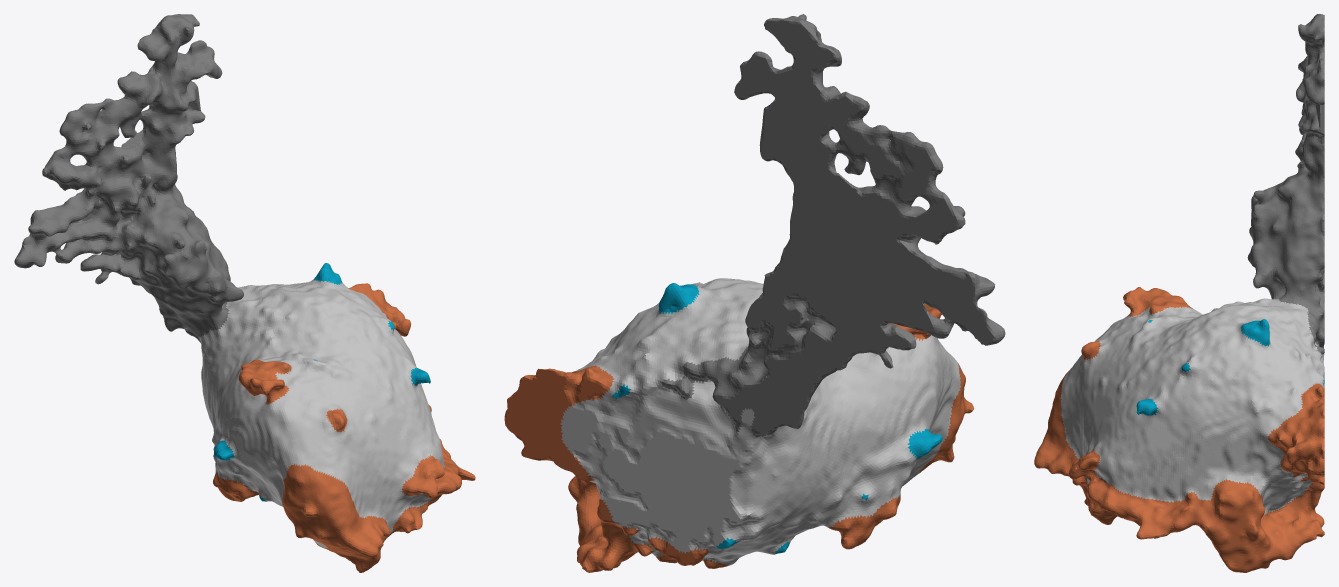
The picture shows the model from 3 angles, left to right: view 1: azimuth 30°, elevation 25°; view 2: azimuth 150°, elevation 25°; view 3: azimuth 270°, elevation 25°; orthographic projection. The views are drawn at different scales.
Bounding box in the file's own units: 158 × 194 × 108.
